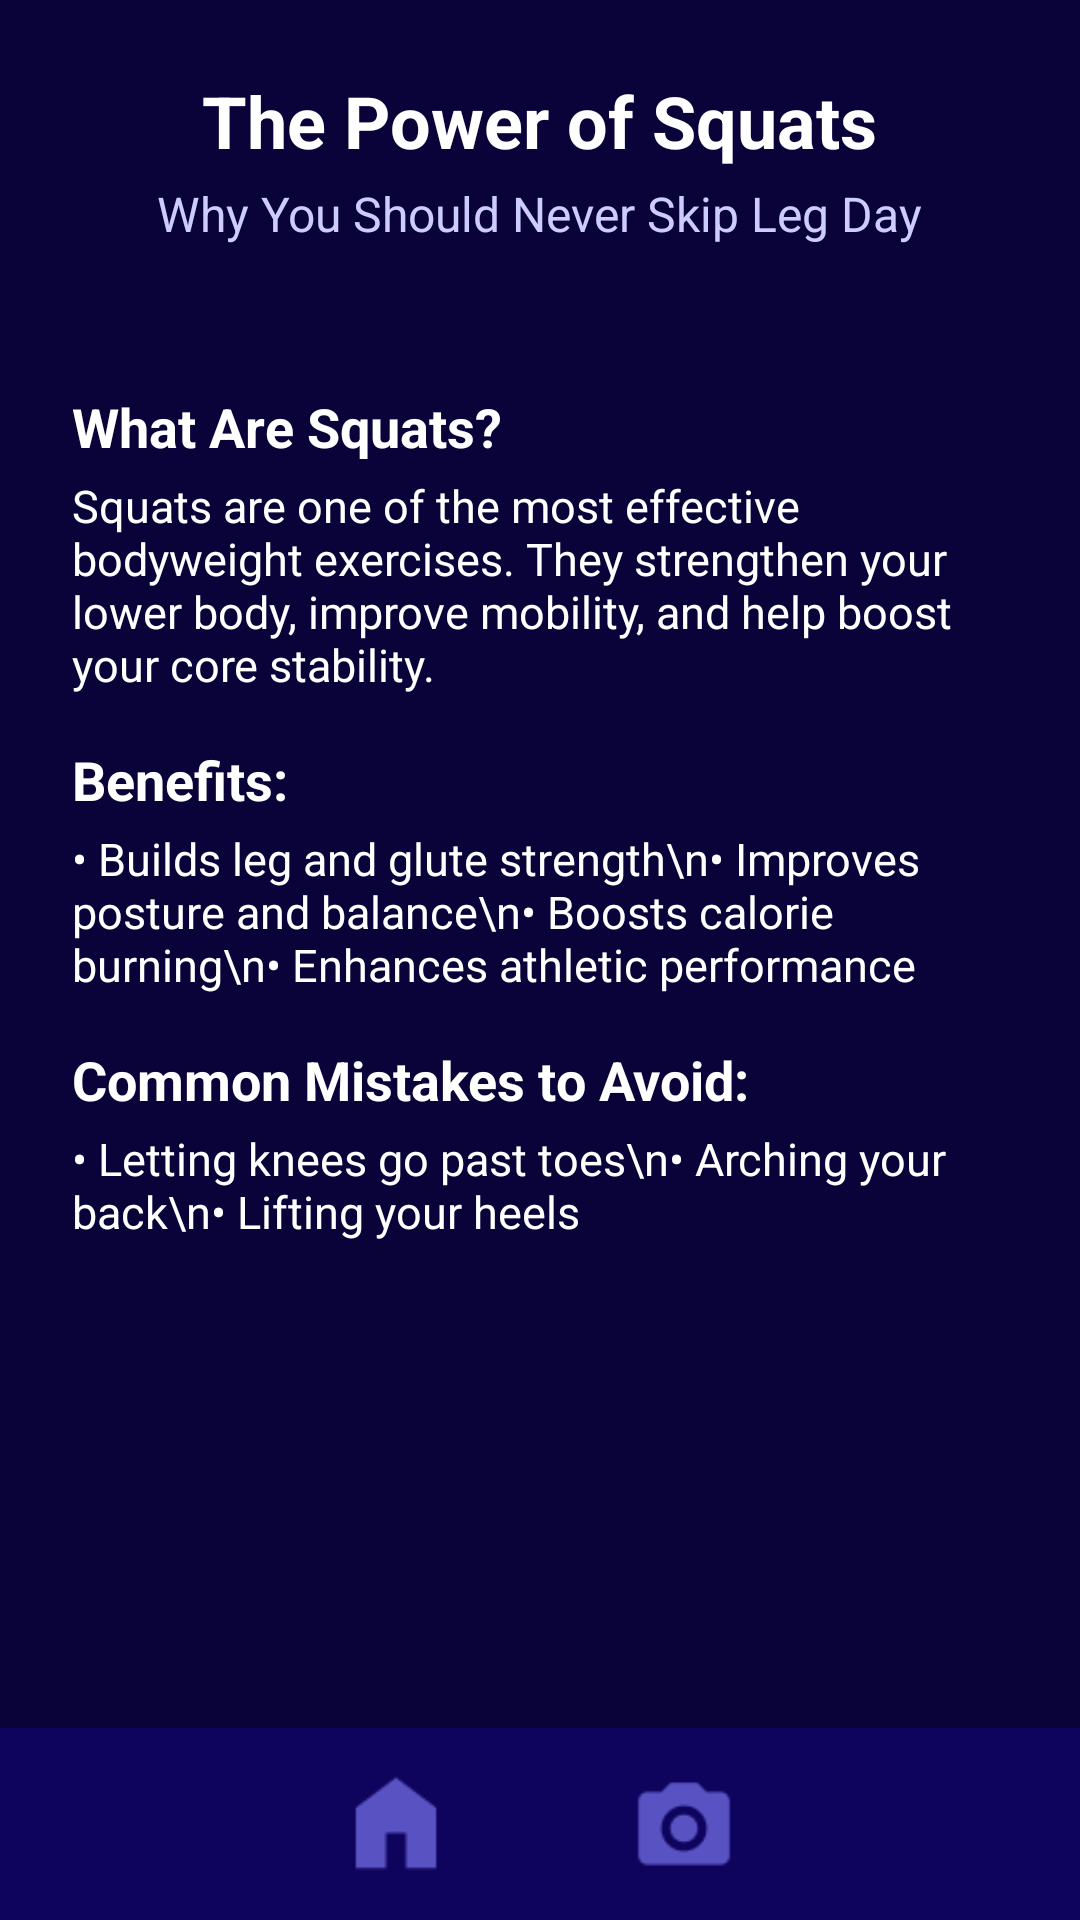

Named icons in this screenshot (1080 × 1920) and their bounding boxes, (x1, y1, x2, y2):
camera: (638, 1782, 730, 1866)
home: (355, 1778, 437, 1869)
